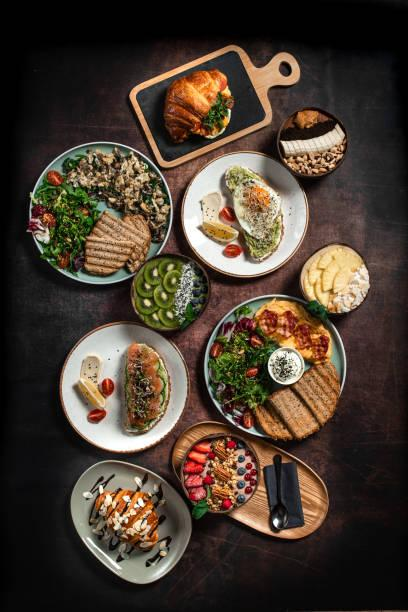Braised Crucian Carp: (127, 42, 299, 169), (203, 294, 346, 437), (28, 143, 170, 283), (59, 320, 191, 452), (180, 150, 309, 277), (70, 461, 191, 583), (171, 428, 265, 521)
